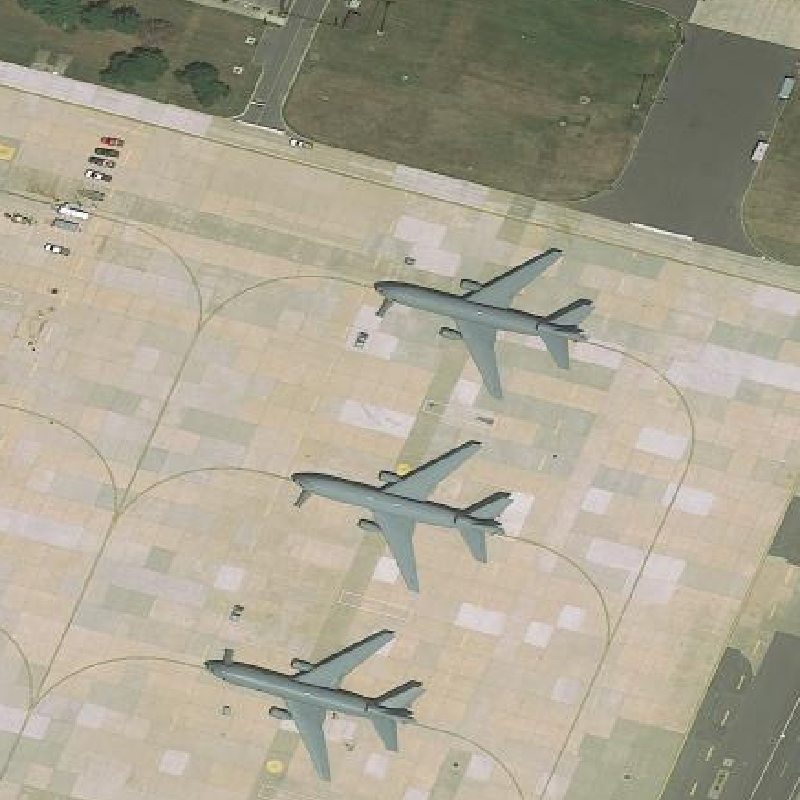A18: (366, 239, 601, 414), (196, 622, 428, 788), (282, 437, 520, 594)
